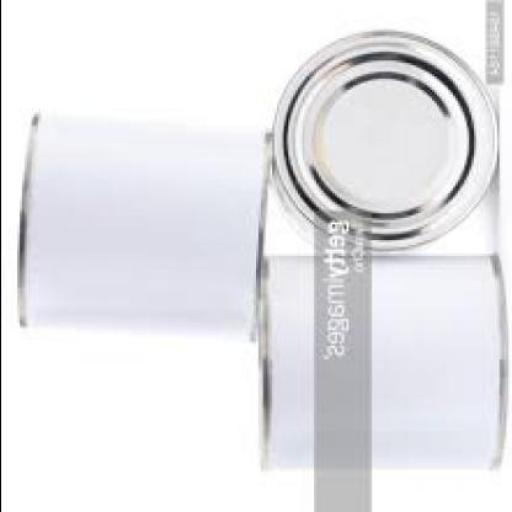metal: (14, 110, 269, 342), (255, 252, 503, 470), (271, 29, 498, 249)
